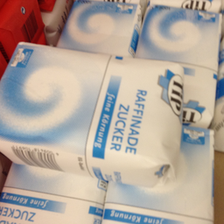tomato_sauce: (1, 42, 184, 184), (102, 120, 215, 224), (137, 5, 221, 128), (57, 2, 143, 59)
